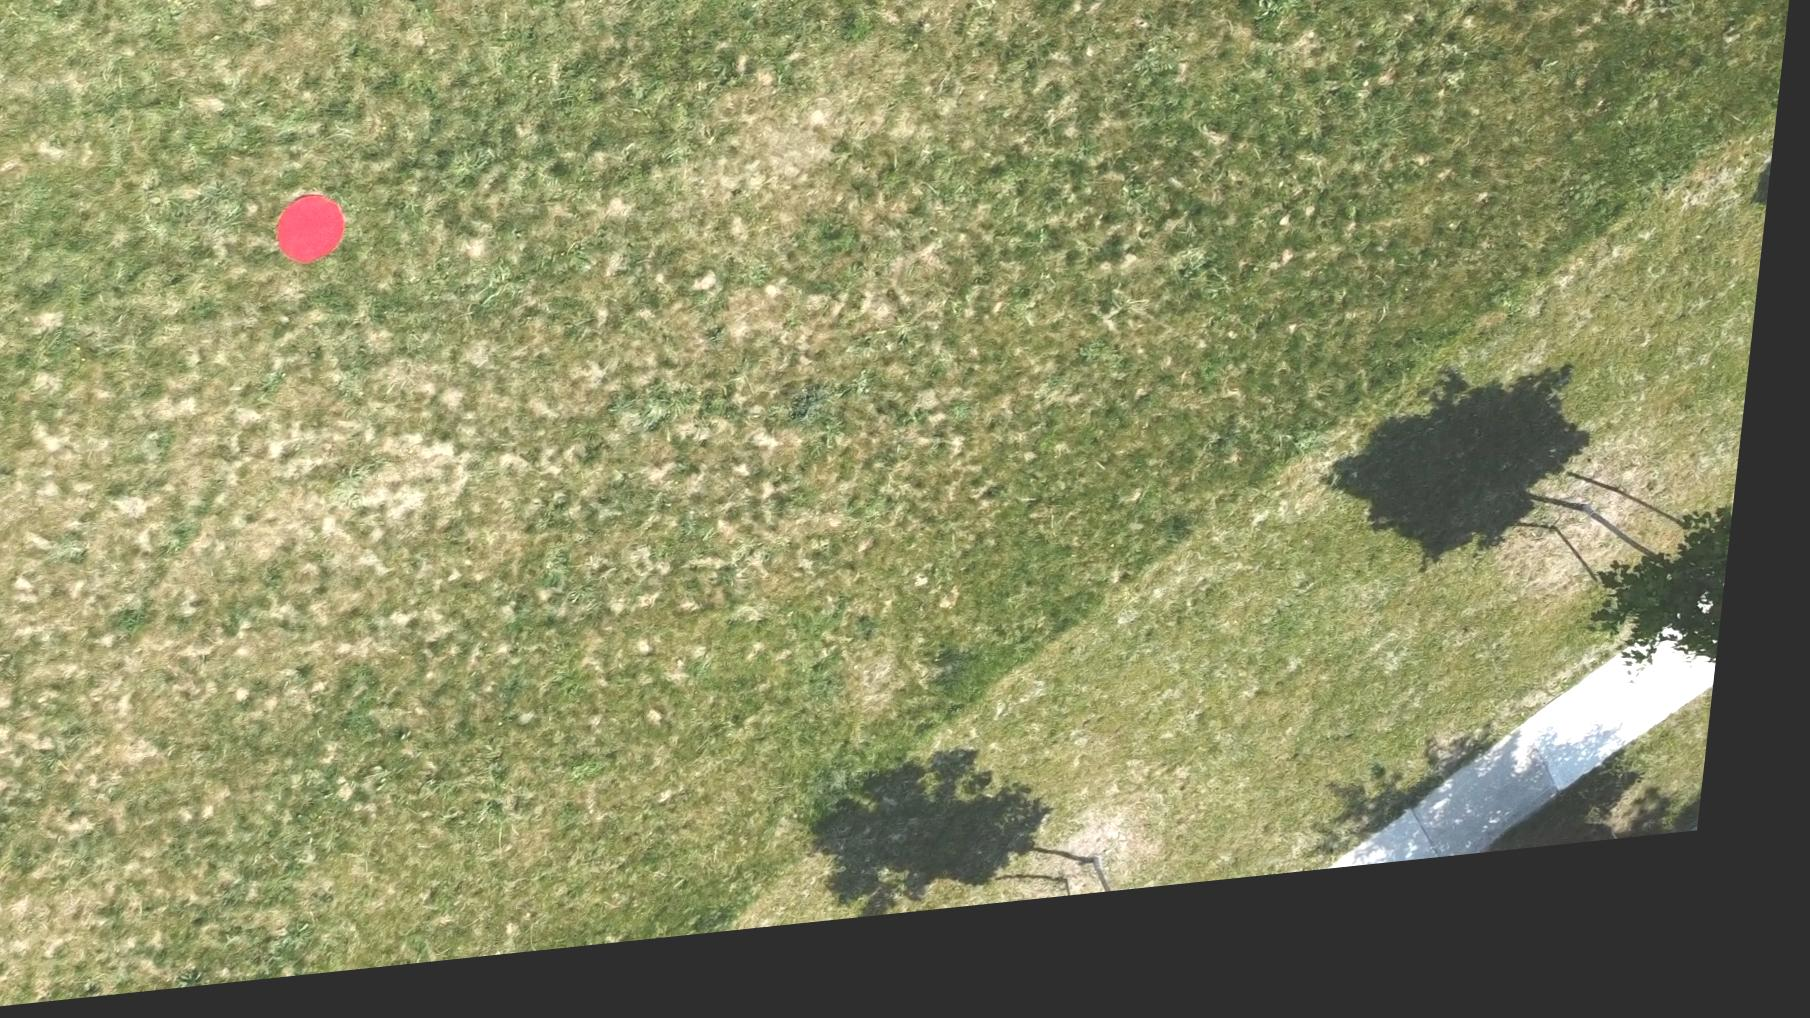Red: (276, 193, 359, 276), (1334, 0, 1408, 2)
